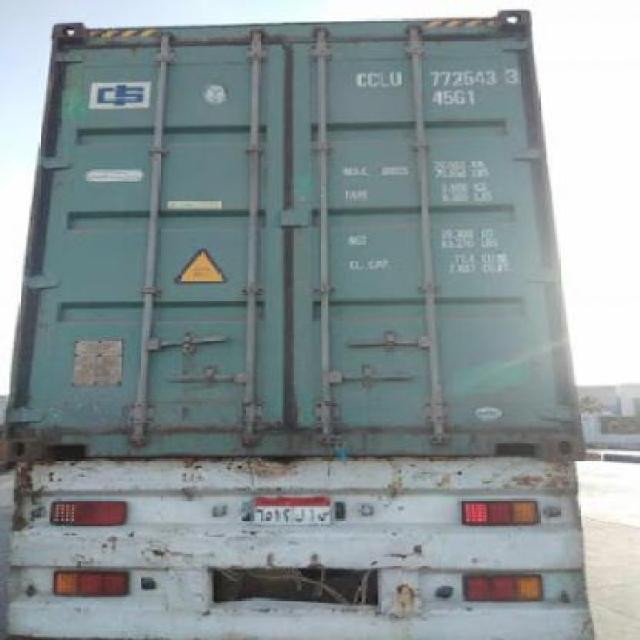ISO: (422, 81, 478, 109)
container_number: (357, 67, 523, 89)
